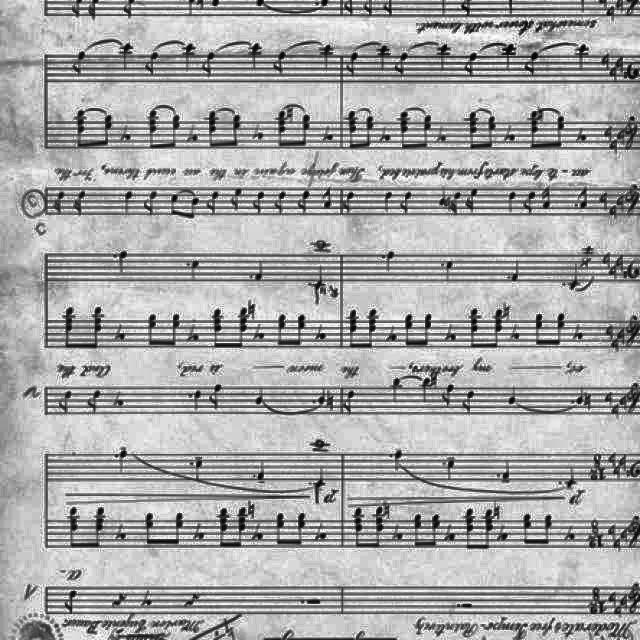Bass-clef: (627, 258, 639, 282), (628, 62, 638, 82), (631, 458, 640, 480), (639, 458, 640, 480)
Bemol: (614, 56, 624, 72), (616, 129, 624, 147), (608, 593, 618, 607), (601, 253, 611, 267), (600, 193, 608, 210), (608, 8, 616, 24), (614, 606, 622, 620), (620, 595, 628, 609), (613, 539, 621, 553), (608, 525, 616, 539), (618, 330, 626, 344), (606, 325, 614, 339), (610, 207, 618, 221), (616, 197, 624, 211), (602, 55, 610, 69), (617, 0, 626, 12), (620, 530, 628, 542), (613, 468, 621, 480), (612, 406, 620, 418), (620, 398, 628, 410), (604, 394, 612, 406), (611, 340, 619, 352), (608, 268, 616, 280), (616, 258, 624, 270), (610, 142, 618, 154), (610, 68, 616, 84), (621, 455, 627, 469), (604, 128, 612, 138), (610, 454, 616, 466), (446, 195, 450, 213), (600, 0, 606, 10)
Eighth-note: (65, 506, 79, 550), (90, 307, 104, 348), (396, 110, 410, 150), (146, 108, 158, 152), (462, 508, 474, 552), (371, 508, 383, 552), (212, 307, 224, 349), (64, 307, 76, 348), (466, 110, 478, 150), (490, 307, 502, 347), (468, 308, 480, 348), (236, 307, 248, 347), (216, 508, 228, 548), (90, 508, 102, 548), (74, 111, 86, 149), (204, 111, 216, 149), (142, 512, 156, 544), (274, 112, 286, 148), (344, 112, 356, 148), (482, 509, 492, 551), (351, 507, 361, 549), (100, 114, 112, 148), (146, 313, 158, 347), (367, 308, 377, 348), (348, 310, 358, 350), (235, 508, 245, 548), (484, 118, 496, 150), (553, 314, 565, 346), (522, 514, 534, 546), (294, 513, 306, 545), (273, 514, 285, 546), (421, 116, 431, 152), (301, 114, 311, 148), (555, 115, 565, 149), (170, 312, 180, 346), (172, 511, 182, 545), (143, 192, 157, 216), (87, 390, 101, 414), (208, 384, 220, 412), (442, 380, 454, 408), (64, 590, 78, 614), (404, 314, 414, 346), (277, 314, 287, 346), (396, 50, 408, 76), (363, 115, 373, 146), (522, 193, 536, 215), (272, 52, 286, 74), (432, 512, 440, 550), (422, 315, 432, 345), (295, 315, 305, 345), (526, 51, 538, 75), (464, 52, 476, 76), (202, 52, 214, 76), (146, 52, 158, 76), (462, 390, 474, 414), (414, 512, 422, 548), (58, 391, 70, 414), (232, 115, 240, 149), (534, 313, 542, 347), (400, 192, 412, 214), (253, 192, 265, 214), (230, 189, 242, 211), (74, 52, 86, 74), (124, 0, 136, 22), (342, 390, 353, 414), (544, 514, 552, 546), (188, 198, 200, 218), (170, 193, 180, 217), (347, 52, 357, 76), (384, 1, 396, 20), (344, 0, 358, 16), (578, 187, 588, 209), (275, 191, 285, 213), (72, 0, 84, 18), (365, 0, 377, 18), (343, 192, 353, 212), (322, 190, 332, 210), (298, 192, 308, 212), (462, 0, 473, 18), (208, 192, 216, 214), (542, 187, 550, 209), (210, 1, 220, 8)
Eighth-rest: (312, 518, 326, 542), (113, 520, 127, 542), (188, 322, 200, 344), (192, 520, 204, 542), (186, 125, 200, 143), (316, 322, 328, 342), (444, 324, 456, 344), (114, 322, 126, 342), (140, 588, 152, 608), (252, 522, 264, 542), (390, 522, 402, 542), (444, 522, 456, 542), (251, 125, 265, 141), (110, 391, 124, 407), (497, 524, 508, 544), (504, 125, 516, 143), (436, 125, 448, 143), (384, 325, 396, 343), (574, 128, 586, 144), (380, 126, 392, 142), (322, 126, 334, 142), (120, 125, 132, 141), (254, 326, 266, 342), (564, 526, 576, 542), (573, 324, 583, 341), (512, 325, 520, 341)
Full-note: (311, 236, 329, 252), (313, 438, 325, 450)
Full-rest: (462, 598, 474, 612)
Half-rest: (306, 594, 322, 610)
Quarter-note: (183, 44, 195, 72), (120, 44, 132, 70), (504, 44, 516, 70), (576, 43, 588, 69), (321, 42, 332, 70), (438, 42, 449, 70), (250, 41, 260, 70), (377, 44, 387, 72), (389, 377, 399, 403), (119, 447, 129, 473), (119, 250, 129, 274), (314, 478, 322, 506), (254, 260, 264, 282), (191, 260, 201, 282), (570, 264, 578, 290), (122, 192, 132, 212), (383, 192, 393, 212), (385, 252, 395, 272), (422, 378, 430, 402), (194, 389, 202, 411), (566, 468, 574, 490), (258, 459, 266, 481), (508, 192, 516, 212), (512, 262, 520, 282), (446, 262, 454, 282), (502, 460, 510, 480), (194, 460, 202, 480), (438, 188, 446, 205), (395, 451, 401, 473), (442, 0, 450, 16), (582, 1, 590, 16), (508, 1, 516, 16), (509, 384, 515, 404), (448, 460, 454, 480), (319, 385, 325, 403), (256, 387, 262, 405), (189, 0, 195, 16), (576, 388, 582, 404), (256, 1, 266, 8), (322, 1, 330, 8)
Quarter-rest: (183, 590, 201, 610), (109, 592, 127, 608)
Sixteenth-note: (73, 192, 87, 216), (466, 188, 478, 212), (89, 0, 101, 22), (54, 190, 64, 214), (451, 192, 461, 216)
Treble-clef: (628, 313, 640, 351), (627, 182, 639, 218), (626, 115, 638, 151), (628, 384, 640, 416), (630, 584, 640, 616), (630, 516, 640, 548), (627, 0, 640, 19), (639, 0, 640, 19)
